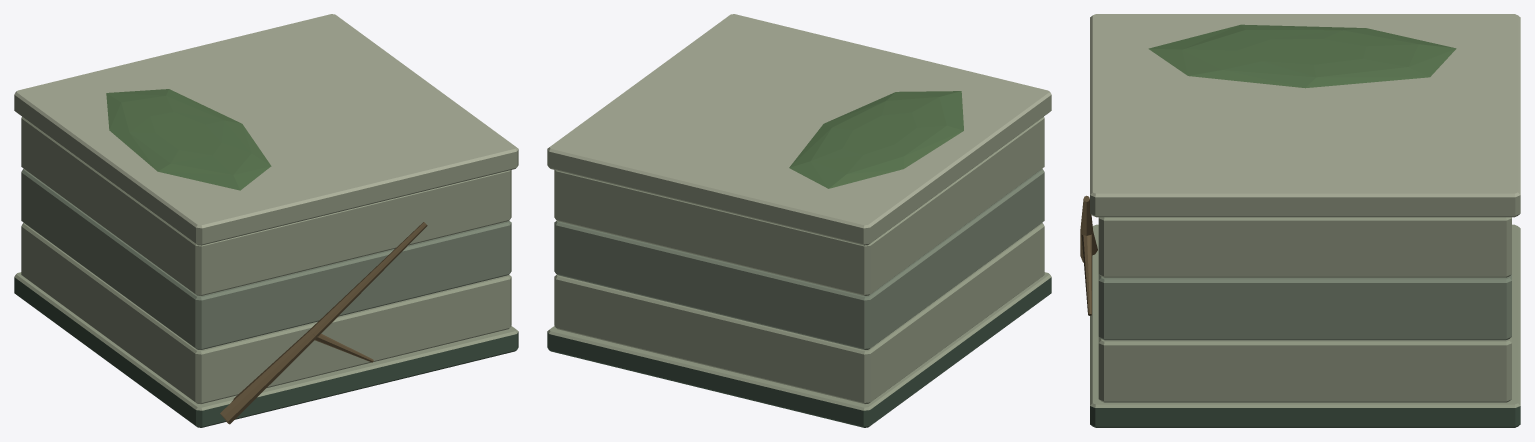
File: platform.glb
3 renders of one model, left to right at view 1: azimuth 30°, elevation 25°; view 2: azimuth 150°, elevation 25°; view 3: azimuth 270°, elevation 25°, orthographic. The views are drawn at different scales.
Parts seen in each view (by area): view 1: platform__body; view 2: platform__body; view 3: platform__body.
Boxes of the visible parts, left/top/right/bottom form: platform__body: left=14, top=14, right=518, bottom=427; platform__body: left=547, top=14, right=1051, bottom=427; platform__body: left=1080, top=14, right=1520, bottom=427.
Bounding box in the file's own units: 2 × 1.24 × 2.04.
